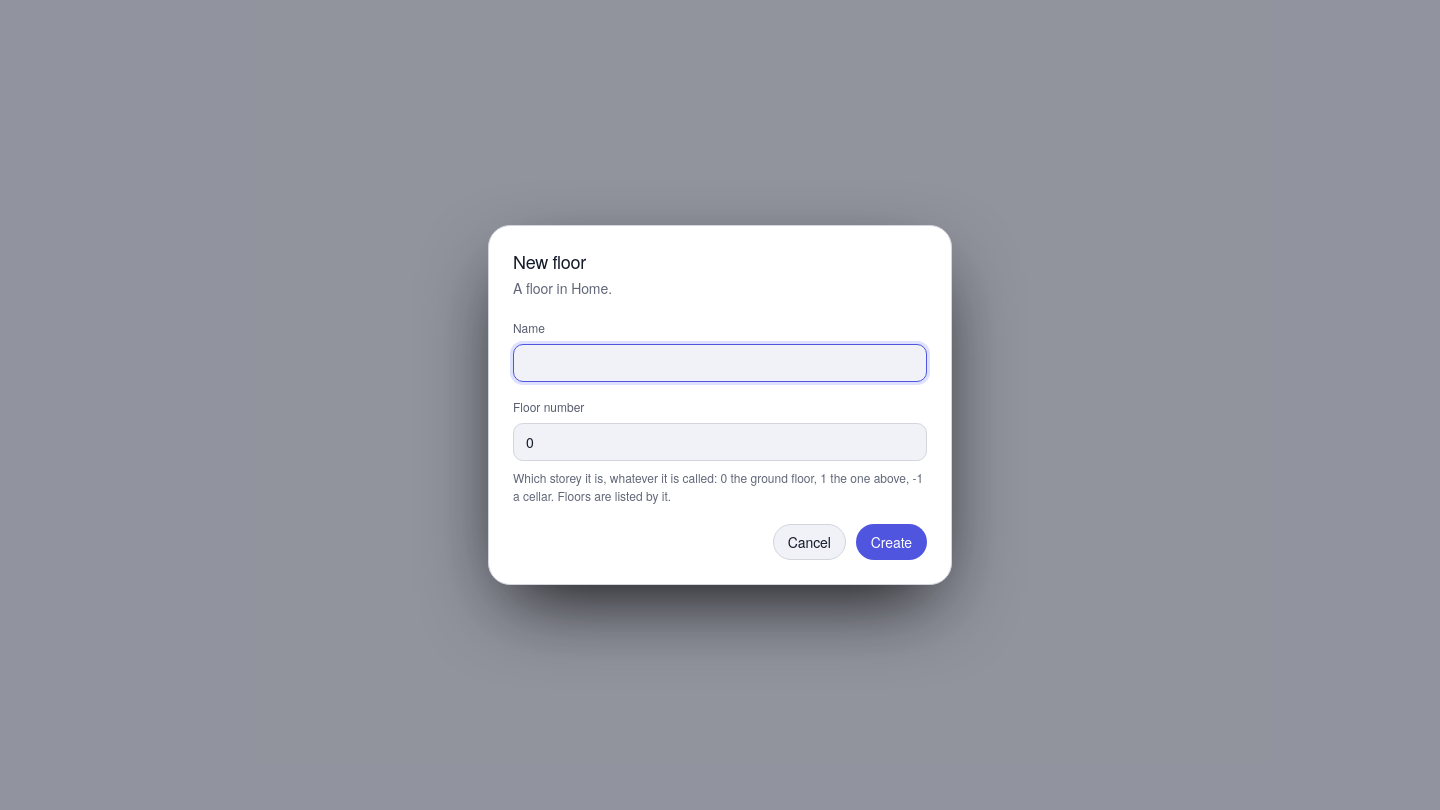
Test: AreaDialog › refuses a blank name before asking the server
Click the button "Create" at (891, 542), box [856,524,927,560]
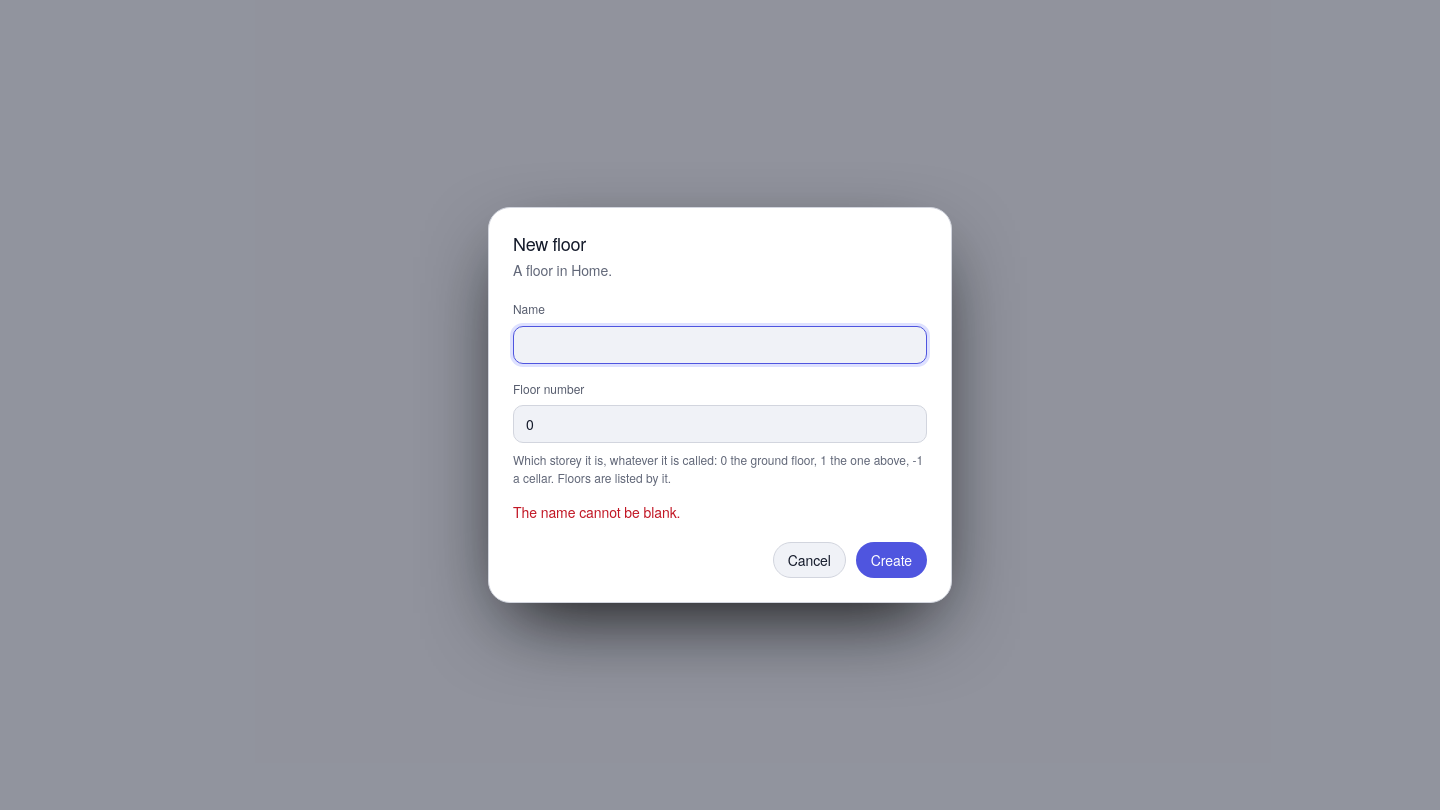
Now the message shows "name", box [513,502,680,522]
